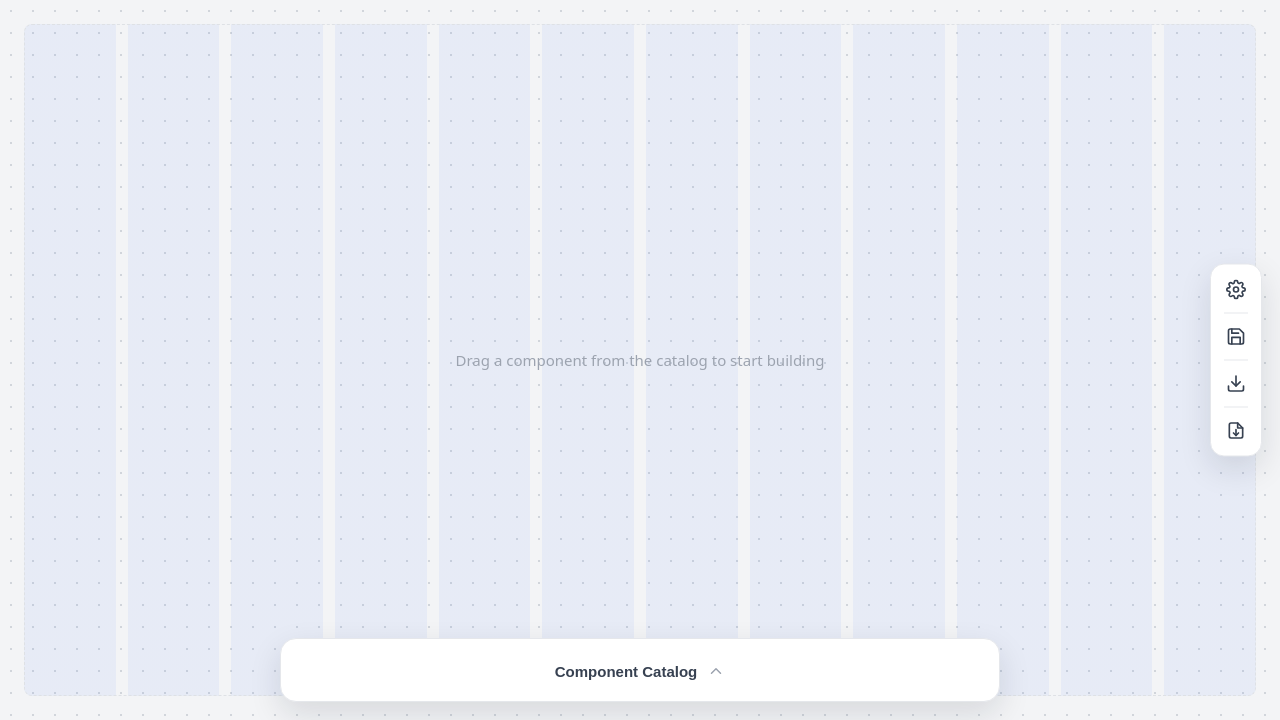
it: MainPage › should open the grid settings dialog
Click the button named "Grid settings".
click(1236, 290)  # box [1217,270,1255,308]
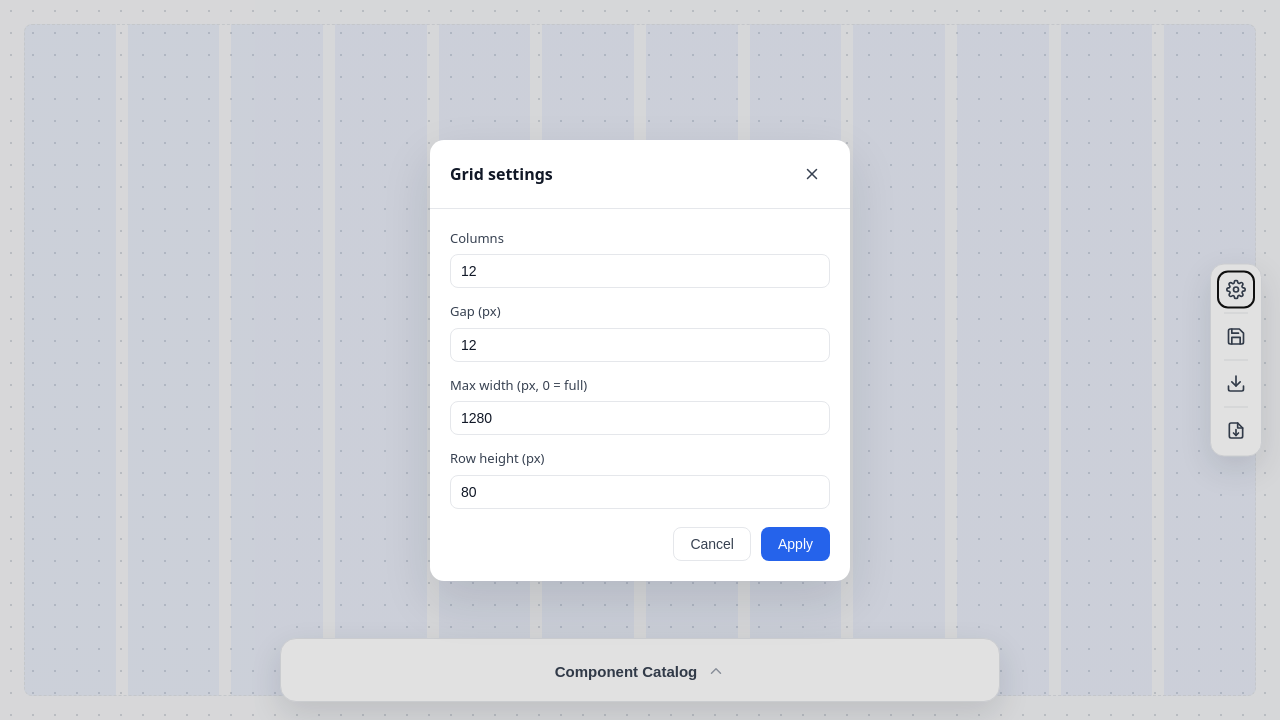
Result: the dialog "Grid settings" is shown at [430,140,850,580]
